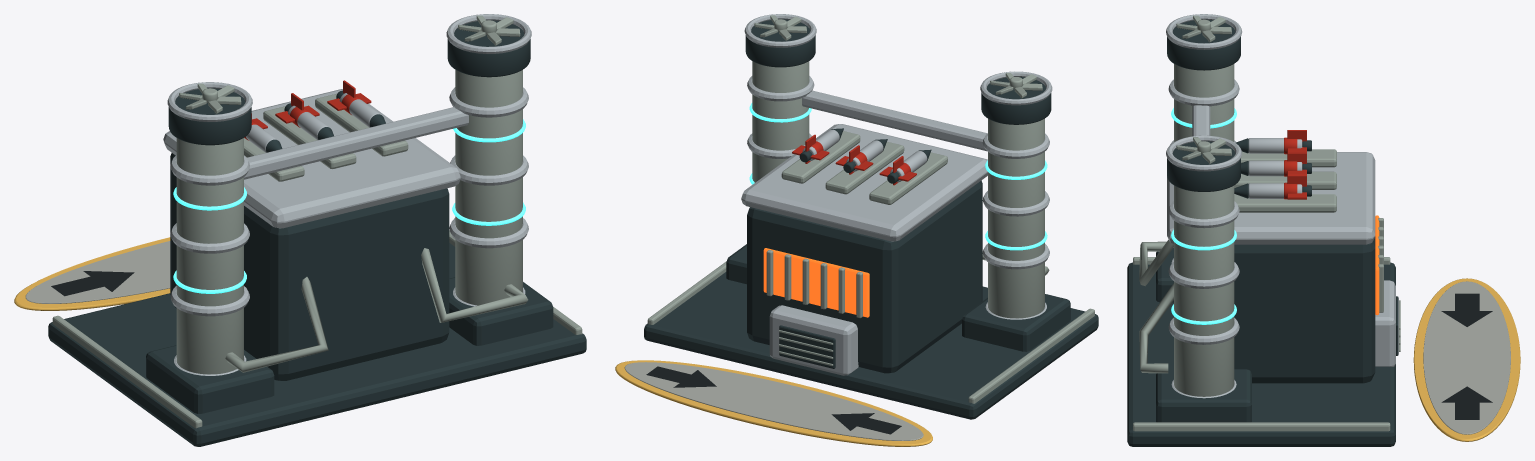
File: battlecity-rocket-factory.glb
The picture shows the model from 3 angles, left to right: view 1: azimuth 30°, elevation 25°; view 2: azimuth 150°, elevation 25°; view 3: azimuth 270°, elevation 25°; orthographic projection. The views are drawn at different scales.
Parts seen in each view (by area): view 1: DX dark machinery, Brushed steel, DX chrome, Pale stone apron, Command gold, Command glow, Red apron paint, Lettering charcoal, Brushed steel Factory intake turbine 1, Brushed steel Factory intake turbine -1; view 2: DX dark machinery, DX chrome, Brushed steel, Pale stone apron, Command gold, Factory furnace glow, Lettering charcoal, Red apron paint, Command glow, Brushed steel Factory intake turbine 1, Brushed steel Factory intake turbine -1; view 3: DX dark machinery, Brushed steel, DX chrome, Pale stone apron, Command gold, Lettering charcoal, Red apron paint, Command glow, Brushed steel Factory intake turbine 1, Brushed steel Factory intake turbine -1, Factory furnace glow.
Part boxes in pixels (bbox=[...]): DX dark machinery: bbox=[48, 20, 586, 446]; Brushed steel: bbox=[52, 70, 582, 428]; DX chrome: bbox=[163, 14, 531, 375]; Pale stone apron: bbox=[25, 241, 170, 303]; Command gold: bbox=[14, 237, 170, 310]; Command glow: bbox=[173, 119, 525, 293]; Red apron paint: bbox=[244, 80, 371, 140]; Lettering charcoal: bbox=[51, 271, 134, 296]; Brushed steel Factory intake turbine 1: bbox=[458, 15, 520, 45]; Brushed steel Factory intake turbine -1: bbox=[179, 83, 241, 113]; DX dark machinery: bbox=[644, 19, 1098, 419]; DX chrome: bbox=[741, 14, 1052, 375]; Brushed steel: bbox=[647, 61, 1094, 403]; Pale stone apron: bbox=[624, 362, 923, 440]; Command gold: bbox=[615, 360, 932, 446]; Factory furnace glow: bbox=[763, 248, 869, 317]; Lettering charcoal: bbox=[646, 366, 901, 434]; Red apron paint: bbox=[792, 134, 916, 185]; Command glow: bbox=[749, 103, 1047, 250]; Brushed steel Factory intake turbine 1: bbox=[754, 15, 806, 40]; Brushed steel Factory intake turbine -1: bbox=[990, 73, 1042, 98]; DX dark machinery: bbox=[1127, 19, 1398, 446]; Brushed steel: bbox=[1133, 64, 1400, 431]; DX chrome: bbox=[1166, 14, 1395, 398]; Pale stone apron: bbox=[1423, 281, 1510, 434]; Command gold: bbox=[1413, 278, 1520, 441]; Lettering charcoal: bbox=[1441, 293, 1492, 419]; Red apron paint: bbox=[1284, 130, 1306, 199]; Command glow: bbox=[1171, 108, 1236, 324]; Brushed steel Factory intake turbine 1: bbox=[1176, 137, 1231, 163]; Brushed steel Factory intake turbine -1: bbox=[1176, 15, 1231, 42]; Factory furnace glow: bbox=[1375, 215, 1379, 315].
Size of the model in its own units: 2.96 by 2.26 by 2.87.
